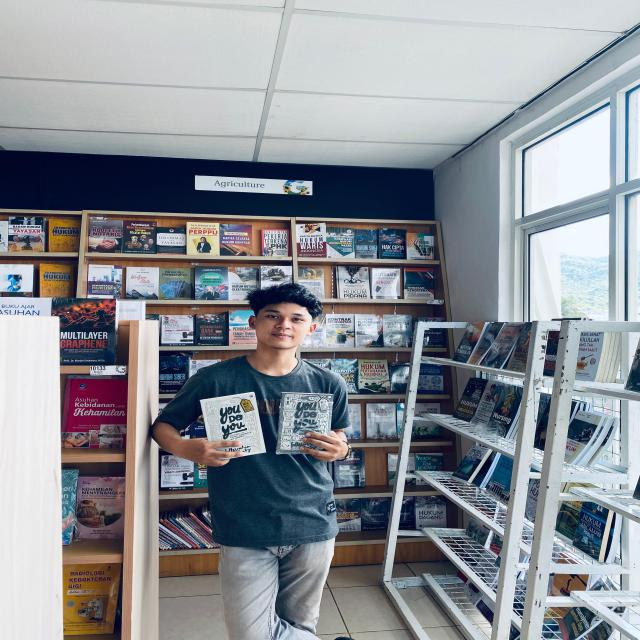nohelmet: (237, 281, 328, 361)
